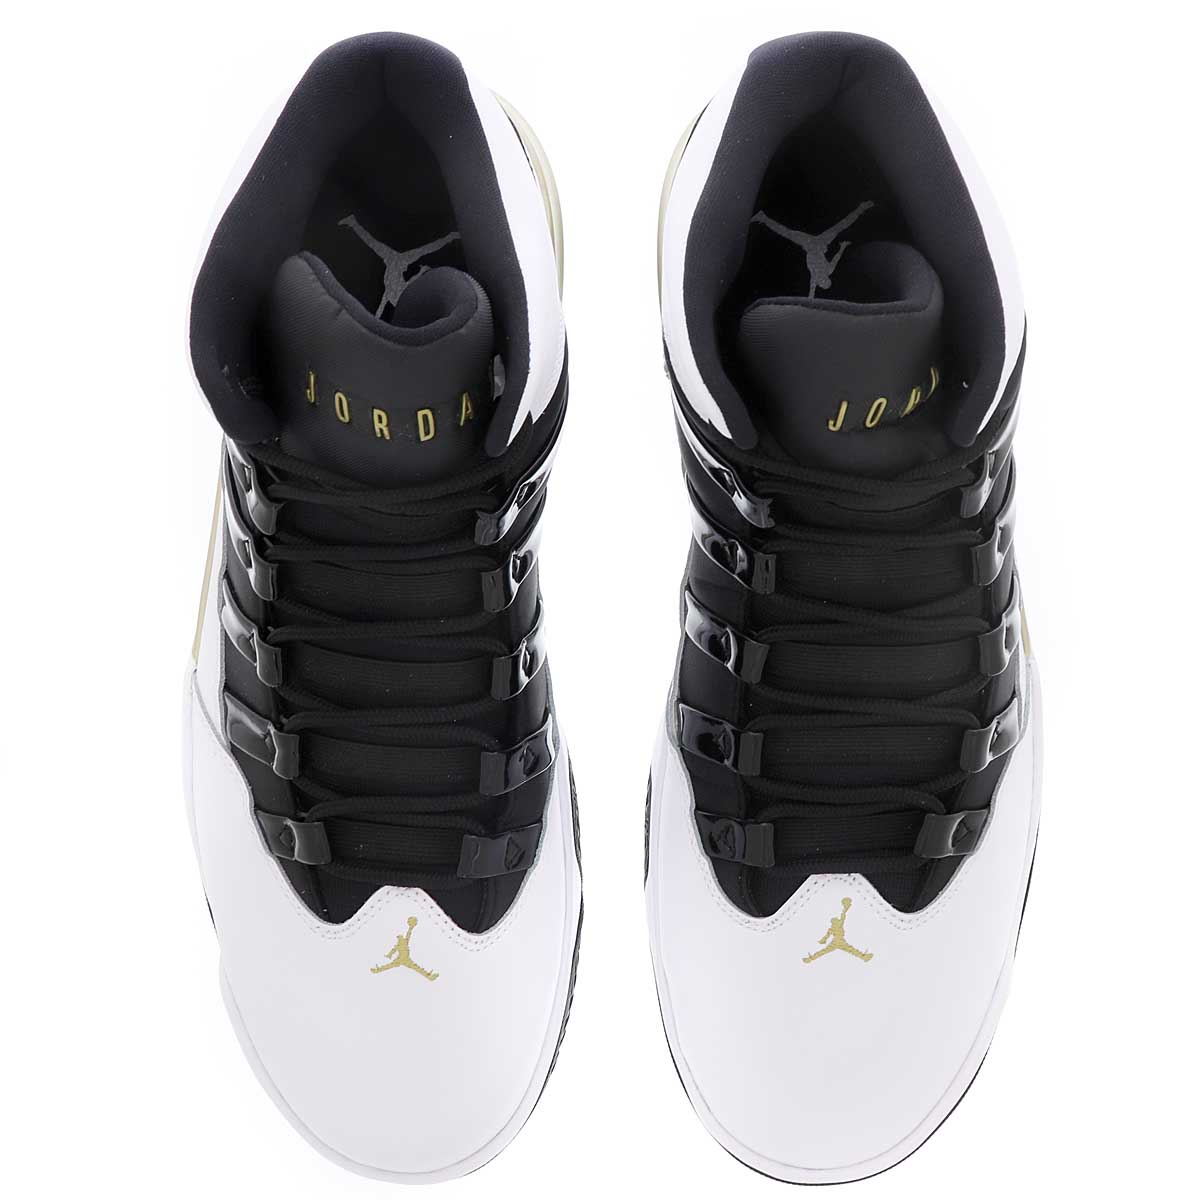shoes: (166, 30, 593, 1192), (641, 24, 1055, 1188)
